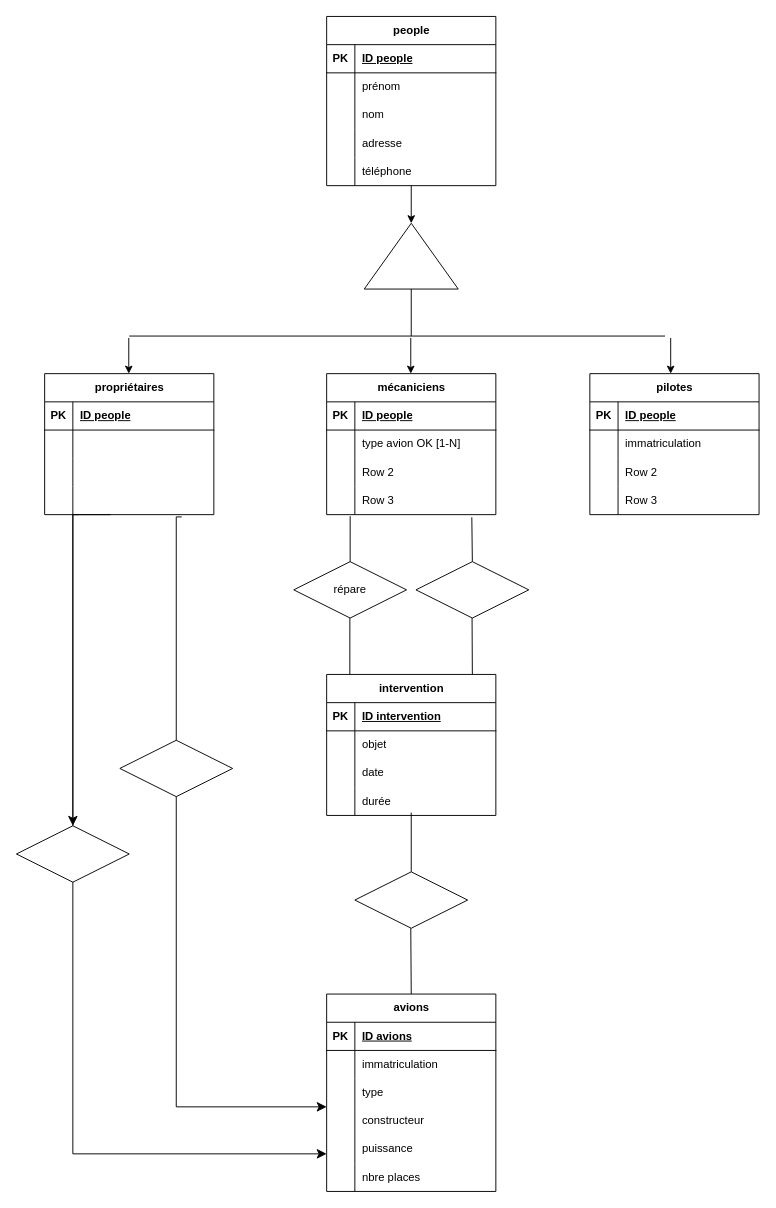
This 776x1208 diagram has some shape labels left out. Here are the shapes that lost their labels. From the top down, the centre of each, then its label:
At pixel 472 589: "vérifie".
At pixel 176 768: "est propriétaire".
At pixel 72 853: "a été propriétaire".
At pixel 411 899: "concerne".
